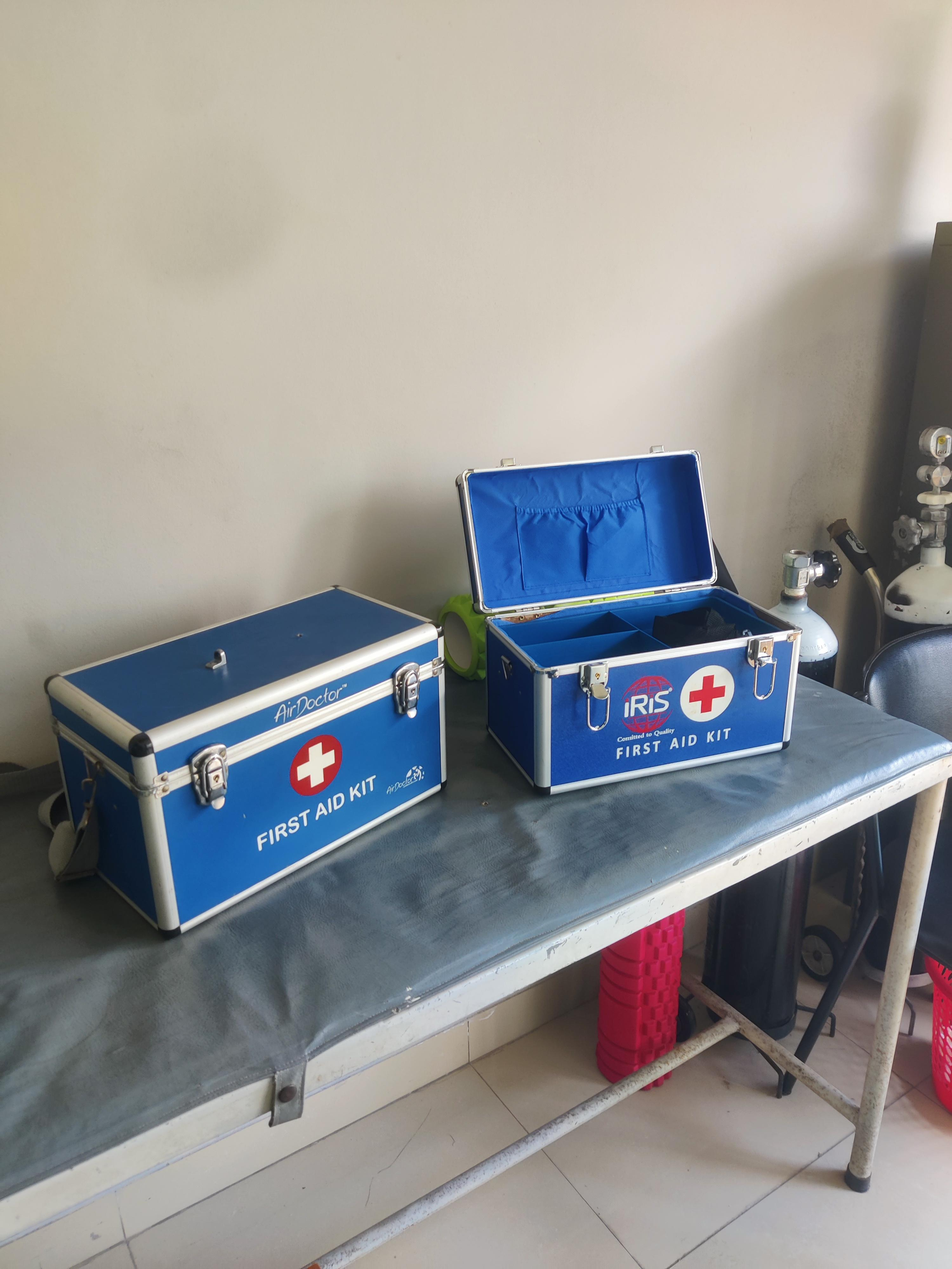FirstAidBox: (30, 569, 461, 950), (446, 445, 812, 812)
